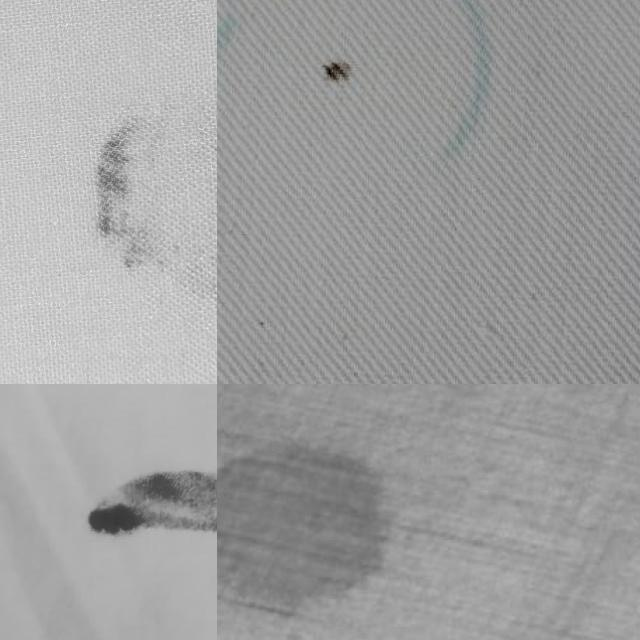Thread_other: (217, 390, 471, 640), (0, 384, 217, 640), (74, 73, 217, 341), (49, 402, 217, 610), (258, 22, 440, 140)
